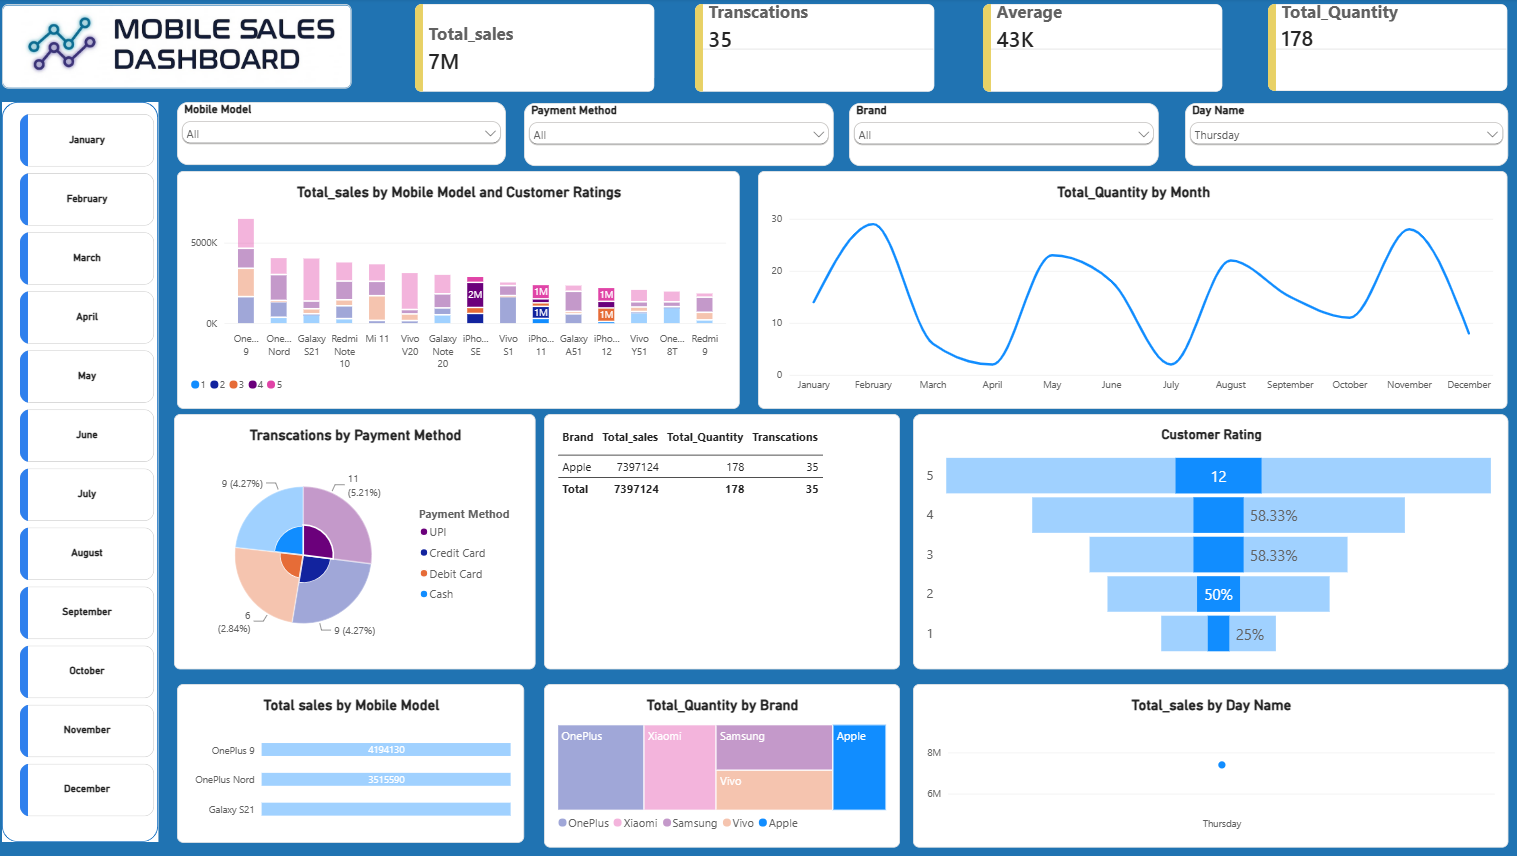

What the dashboard file says about the page in this screenshot:
{"tool":"powerbi","page":{"name":"Page 1","canvas":[1920,1080],"ordinal":0},"visuals":[{"type":"group","id":"g1","title":"Group 1","box":[12.1,130.6,195.5,927.1],"z":0,"group":"g4"},{"type":"group","id":"g2","title":"Group 2","box":[12.1,130.6,195.3,927.8],"z":0},{"type":"cardVisual","fields":{"Data":["Sales_data mobile.Total_Quantity"]},"box":[1598.5,8.1,300,109.1],"z":1000},{"type":"advancedSlicerVisual","fields":{"Values":["Sales_data mobile.Date.Variation.Date Hierarchy.Month"]},"box":[34.9,145.9,168.2,886.1],"z":1000,"group":"g4"},{"type":"cardVisual","fields":{"Data":["Sales_data mobile.Transcations"]},"box":[880.7,8.1,300,110.4],"z":2000},{"type":"shape","box":[12.1,130.6,195.5,927.1],"z":3000,"group":"g1"},{"type":"lineChart","fields":{"Category":["Sales_data mobile.Date.Variation.Date Hierarchy.Month"],"Y":["Sales_data mobile.Total_Quantity"]},"box":[960.1,216.8,939.5,297.5],"z":3000},{"type":"group","id":"g3","title":"Group 3","box":[12.1,130.6,194.9,926.6],"z":3004,"group":"g2"},{"type":"group","id":"g4","title":"Group 5","box":[12.1,130.6,194.9,926.6],"z":3005,"group":"g3"},{"type":"funnel","title":"Customer Rating","fields":{"Category":["Sales_data mobile.Customer Ratings"],"Y":["CountNonNull(Sales_data mobile.Customer Ratings)"]},"box":[1153.5,521.8,746,319.5],"z":4000},{"type":"hundredPercentStackedBarChart","title":"Total sales by Mobile Model ","fields":{"Category":["Sales_data mobile.Mobile Model"],"Y":["Sales_data mobile.Total_sales"]},"box":[231.6,858.9,435.3,199.3],"z":5000},{"type":"slicer","fields":{"Values":["Sales_data mobile.Mobile Model"]},"box":[231.6,130.6,411.8,79.1],"z":6000},{"type":"slicer","fields":{"Values":["Sales_data mobile.Payment Method"]},"box":[666.9,131.9,388.4,79.1],"z":7000},{"type":"slicer","fields":{"Values":["Sales_data mobile.Brand"]},"box":[1074.3,131.9,388.4,79.1],"z":8000},{"type":"slicer","fields":{"Values":["Sales_data mobile.Day Name"]},"box":[1495,131.9,404.5,79.1],"z":9000},{"type":"tableEx","fields":{"Values":["Sales_data mobile.Brand","Sales_data mobile.Total_sales","Sales_data mobile.Total_Quantity","Sales_data mobile.Transcations"]},"box":[691.8,521.8,445.6,319.5],"z":10000},{"type":"pieChart","fields":{"Category":["Sales_data mobile.Payment Method"],"Y":["Sales_data mobile.Transcations"]},"box":[228.6,521.8,452.9,319.5],"z":11000},{"type":"lineChart","fields":{"Category":["Sales_data mobile.Day Name"],"Y":["Sales_data mobile.Total_sales"]},"box":[1153.5,858.9,746,205.2],"z":12000},{"type":"columnChart","fields":{"Category":["Sales_data mobile.Mobile Model"],"Series":["Sales_data mobile.Customer Ratings"],"Y":["Sales_data mobile.Total_sales"]},"box":[231.6,216.9,705,297.5],"z":13000},{"type":"treemap","fields":{"Group":["Sales_data mobile.Brand"],"Values":["Sales_data mobile.Total_Quantity"]},"box":[691.8,858.9,445.6,205.2],"z":14000},{"type":"cardVisual","fields":{"Data":["Sales_data mobile.Average"]},"box":[1241.6,8.1,300,110.4],"z":15000},{"type":"cardVisual","fields":{"Data":["Sales_data mobile.Total_sales"]},"box":[530.6,8.1,300,110.4],"z":17000},{"type":"image","box":[9.4,12.1,437.7,106.4],"z":18001}]}

Visuals, with their boxes in screenshot pixels (x1, y1, x2, y2), scaled from the page's 1920x1080 canvas onto the 1517x856 screenshot:
"Group 1" group: {"x1": 10, "y1": 104, "x2": 164, "y2": 838}
"Group 2" group: {"x1": 10, "y1": 104, "x2": 164, "y2": 839}
cardVisual - Sales_data mobile.Total_Quantity: {"x1": 1263, "y1": 6, "x2": 1500, "y2": 93}
advancedSlicerVisual - Sales_data mobile.Date.Variation.Date Hierarchy.Month: {"x1": 28, "y1": 116, "x2": 160, "y2": 818}
cardVisual - Sales_data mobile.Transcations: {"x1": 696, "y1": 6, "x2": 933, "y2": 94}
shape: {"x1": 10, "y1": 104, "x2": 164, "y2": 838}
lineChart - Sales_data mobile.Date.Variation.Date Hierarchy.Month x Sales_data mobile.Total_Quantity: {"x1": 759, "y1": 172, "x2": 1501, "y2": 408}
"Group 3" group: {"x1": 10, "y1": 104, "x2": 164, "y2": 838}
"Group 5" group: {"x1": 10, "y1": 104, "x2": 164, "y2": 838}
"Customer Rating" funnel: {"x1": 911, "y1": 414, "x2": 1501, "y2": 667}
"Total sales by Mobile Model " hundredPercentStackedBarChart: {"x1": 183, "y1": 681, "x2": 527, "y2": 839}
slicer - Sales_data mobile.Mobile Model: {"x1": 183, "y1": 104, "x2": 508, "y2": 166}
slicer - Sales_data mobile.Payment Method: {"x1": 527, "y1": 105, "x2": 834, "y2": 167}
slicer - Sales_data mobile.Brand: {"x1": 849, "y1": 105, "x2": 1156, "y2": 167}
slicer - Sales_data mobile.Day Name: {"x1": 1181, "y1": 105, "x2": 1501, "y2": 167}
tableEx - Sales_data mobile.Brand x Sales_data mobile.Total_sales: {"x1": 547, "y1": 414, "x2": 899, "y2": 667}
pieChart - Sales_data mobile.Payment Method x Sales_data mobile.Transcations: {"x1": 181, "y1": 414, "x2": 538, "y2": 667}
lineChart - Sales_data mobile.Day Name x Sales_data mobile.Total_sales: {"x1": 911, "y1": 681, "x2": 1501, "y2": 843}
columnChart - Sales_data mobile.Mobile Model x Sales_data mobile.Customer Ratings: {"x1": 183, "y1": 172, "x2": 740, "y2": 408}
treemap - Sales_data mobile.Brand x Sales_data mobile.Total_Quantity: {"x1": 547, "y1": 681, "x2": 899, "y2": 843}
cardVisual - Sales_data mobile.Average: {"x1": 981, "y1": 6, "x2": 1218, "y2": 94}
cardVisual - Sales_data mobile.Total_sales: {"x1": 419, "y1": 6, "x2": 656, "y2": 94}
image: {"x1": 7, "y1": 10, "x2": 353, "y2": 94}
